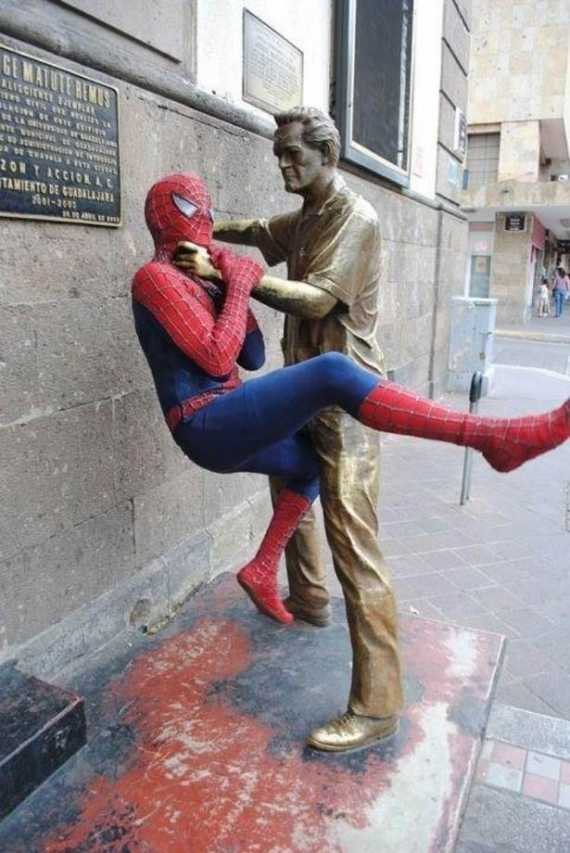person: (227, 83, 374, 281)
